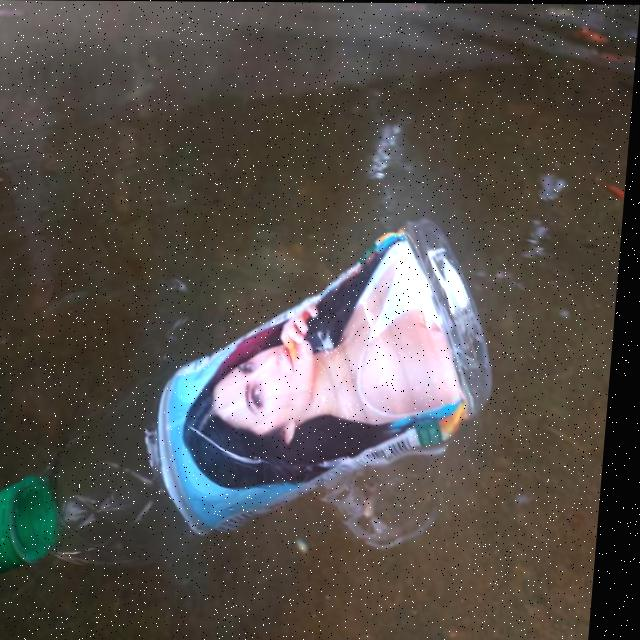waterbottle: (0, 206, 524, 594)
